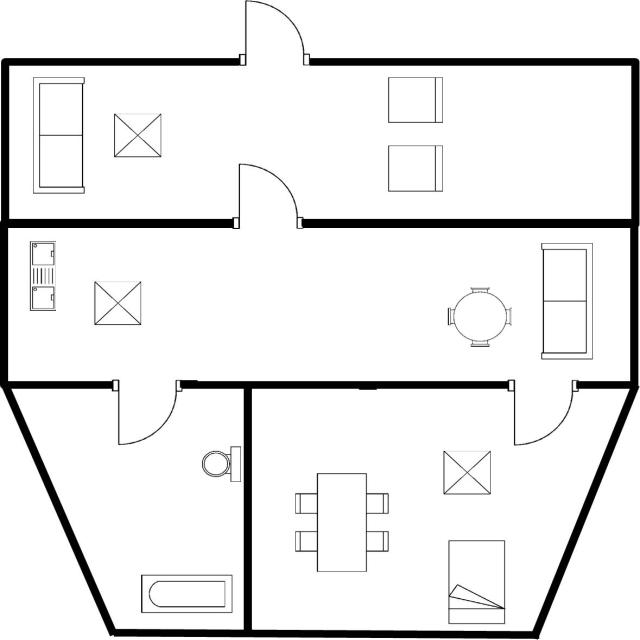bed: (441, 534, 512, 628)
coffee_table: (108, 106, 167, 162), (437, 446, 496, 500), (88, 278, 148, 331)
dining_table: (291, 468, 394, 577)
large_sink: (194, 441, 242, 488)
large_sofa: (534, 239, 599, 366), (27, 72, 89, 199)
round_table: (442, 281, 518, 351)
small_sofa: (382, 139, 448, 197), (378, 72, 446, 126)
tub: (134, 570, 237, 617)
twin_sink: (24, 236, 58, 317)
